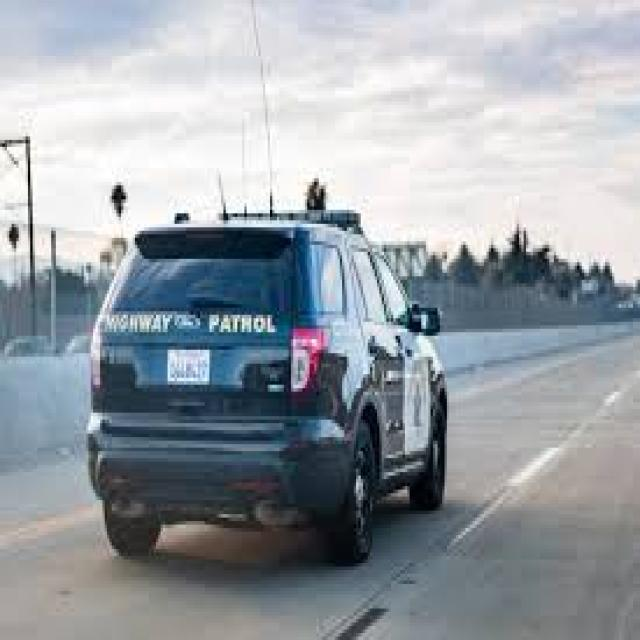cop: (86, 216, 452, 564)
